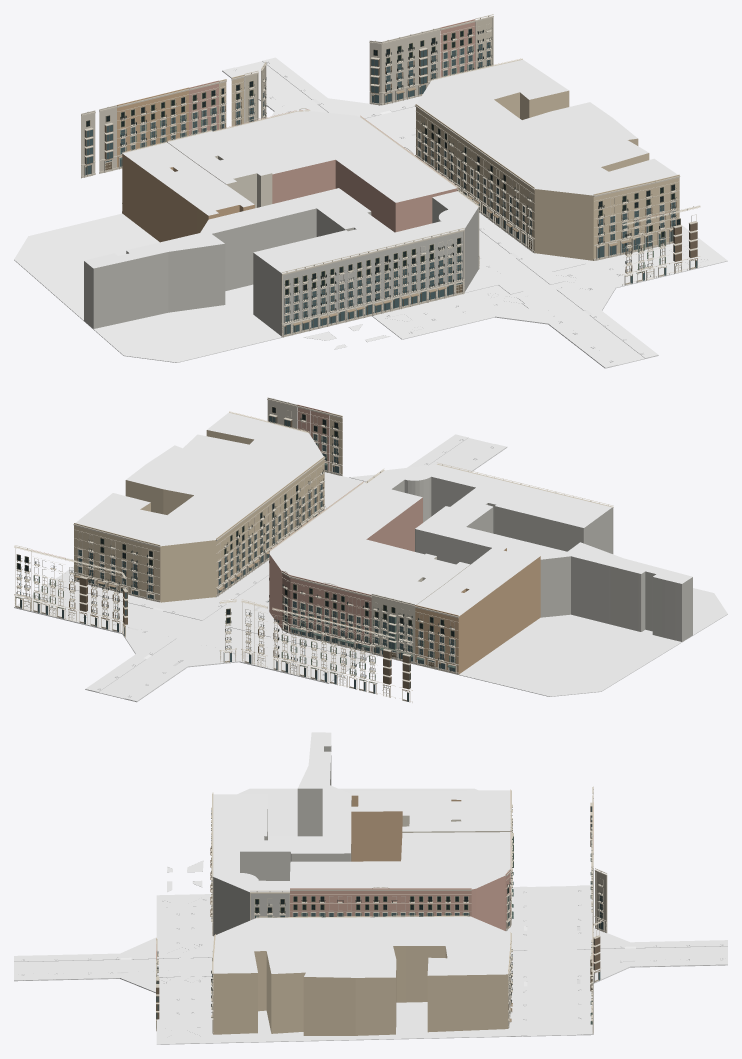
3 views of the same model, one above another, from view 1: azimuth 30°, elevation 25°; view 2: azimuth 150°, elevation 25°; view 3: azimuth 270°, elevation 25° (orthographic). The views are drawn at different scales.
Parts seen in each view (by area): view 1: BCNgen_L-MD3-001_cubierta, BCNgen_L-MC3-001_envolvente, BCN_MC3_terreno, BCNgen_L-MC3-001_fachada_01, BCNgen_L-MC3-004_cubierta, BCNgen_L-MC3-001_cubierta, BCN_C03_viario_BCN-PG-31, BCN_C05_viario_BCN-PG-31, BCNgen_L-MD3-001_fachada_01, BCNgen_L-MD3-001_envolvente, BCNgen_L-MC3-004_envolvente, BCNgen_L-MC3-006_envolvente (+19 smaller); view 2: BCNgen_L-MC3-001_envolvente, BCNgen_L-MD3-001_cubierta, BCN_MC3_terreno, BCN_C06_viario_BCN-PG-32, BCNgen_L-MC3-004_cubierta, BCNgen_L-MC3-001_cubierta, BCN_C03_viario_BCN-PG-32, BCNgen_L-MD3-001_fachada_01, BCNgen_L-MC3-006_envolvente, BCNgen_L-MC3-004_fachada_02, BCNgen_L-MD3-001_envolvente, BCNgen_L-MD3-001_fachada_02 (+16 smaller); view 3: BCNgen_L-MD3-001_envolvente, BCNgen_L-MD3-001_cubierta, BCN_C06_viario_BCN-PG-32, BCNgen_L-MC3-004_cubierta, BCNgen_L-MC3-001_cubierta, BCN_C05_viario_BCN-PG-31, BCN_C03_viario_BCN-PG-31, BCNgen_L-MC3-004_fachada_01, BCN_C03_viario_BCN-PG-32, BCNgen_L-MC3-001_envolvente, BCN_MD3_terreno, BCNgen_L-MC3-006_cubierta (+7 smaller).
Part boxes in pixels (x1,y1,x2,y2): BCNgen_L-MD3-001_cubierta: (417, 60, 677, 195); BCNgen_L-MC3-001_envolvente: (84, 198, 478, 335); BCN_MC3_terreno: (14, 213, 364, 362); BCNgen_L-MC3-001_fachada_01: (281, 228, 464, 337); BCNgen_L-MC3-004_cubierta: (214, 111, 456, 202); BCNgen_L-MC3-001_cubierta: (84, 188, 478, 273); BCN_C03_viario_BCN-PG-31: (464, 216, 658, 367); BCN_C05_viario_BCN-PG-31: (372, 237, 727, 339); BCNgen_L-MD3-001_fachada_01: (415, 104, 534, 253); BCNgen_L-MD3-001_envolvente: (494, 90, 649, 260); BCNgen_L-MC3-004_envolvente: (272, 159, 457, 232); BCNgen_L-MC3-006_envolvente: (122, 154, 254, 242); BCNgen_L-MC3-001_envolvente: (392, 476, 692, 641); BCNgen_L-MD3-001_cubierta: (75, 412, 323, 546); BCN_MC3_terreno: (269, 588, 727, 696); BCN_C06_viario_BCN-PG-32: (14, 577, 371, 683); BCNgen_L-MC3-004_cubierta: (269, 482, 424, 594); BCNgen_L-MC3-001_cubierta: (367, 464, 692, 583); BCN_C03_viario_BCN-PG-32: (85, 563, 281, 701); BCNgen_L-MD3-001_fachada_01: (216, 456, 325, 597); BCNgen_L-MC3-006_envolvente: (458, 548, 540, 674); BCNgen_L-MC3-004_fachada_02: (289, 575, 371, 653); BCNgen_L-MD3-001_envolvente: (125, 430, 253, 602); BCNgen_L-MD3-001_fachada_02: (73, 523, 141, 597); BCNgen_L-MD3-001_envolvente: (213, 946, 508, 1035); BCNgen_L-MD3-001_cubierta: (213, 916, 510, 977); BCN_C06_viario_BCN-PG-32: (510, 885, 593, 1036); BCNgen_L-MC3-004_cubierta: (290, 832, 510, 889); BCNgen_L-MC3-001_cubierta: (213, 732, 351, 891); BCN_C05_viario_BCN-PG-31: (156, 894, 213, 1044); BCN_C03_viario_BCN-PG-31: (14, 936, 213, 992); BCNgen_L-MC3-004_fachada_01: (290, 887, 471, 917); BCN_C03_viario_BCN-PG-32: (506, 928, 727, 982); BCNgen_L-MC3-001_envolvente: (213, 746, 351, 935); BCN_MD3_terreno: (213, 1002, 510, 1043); BCNgen_L-MC3-006_cubierta: (351, 790, 510, 811).
Size of the model in its own units: 215 by 29.61 by 258.
Materials: 38 (1 with a texture image).
